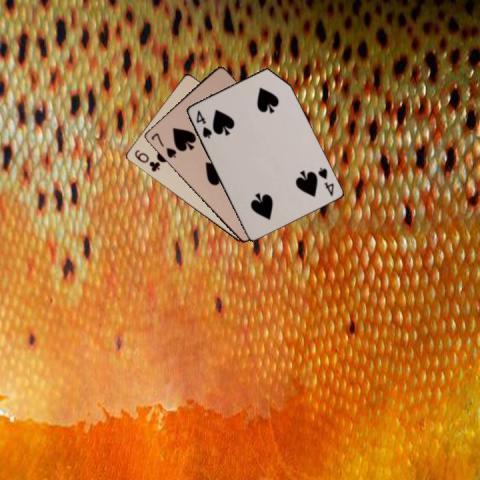4s: (192, 107, 212, 140), (314, 164, 334, 197)
6c: (132, 147, 162, 173)
7s: (148, 130, 178, 159)
